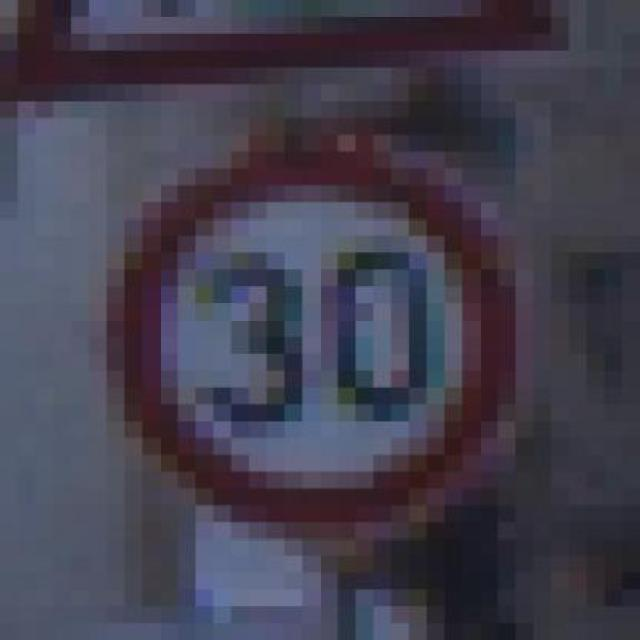Speed Limit 30 KMPh: (89, 135, 569, 590)
